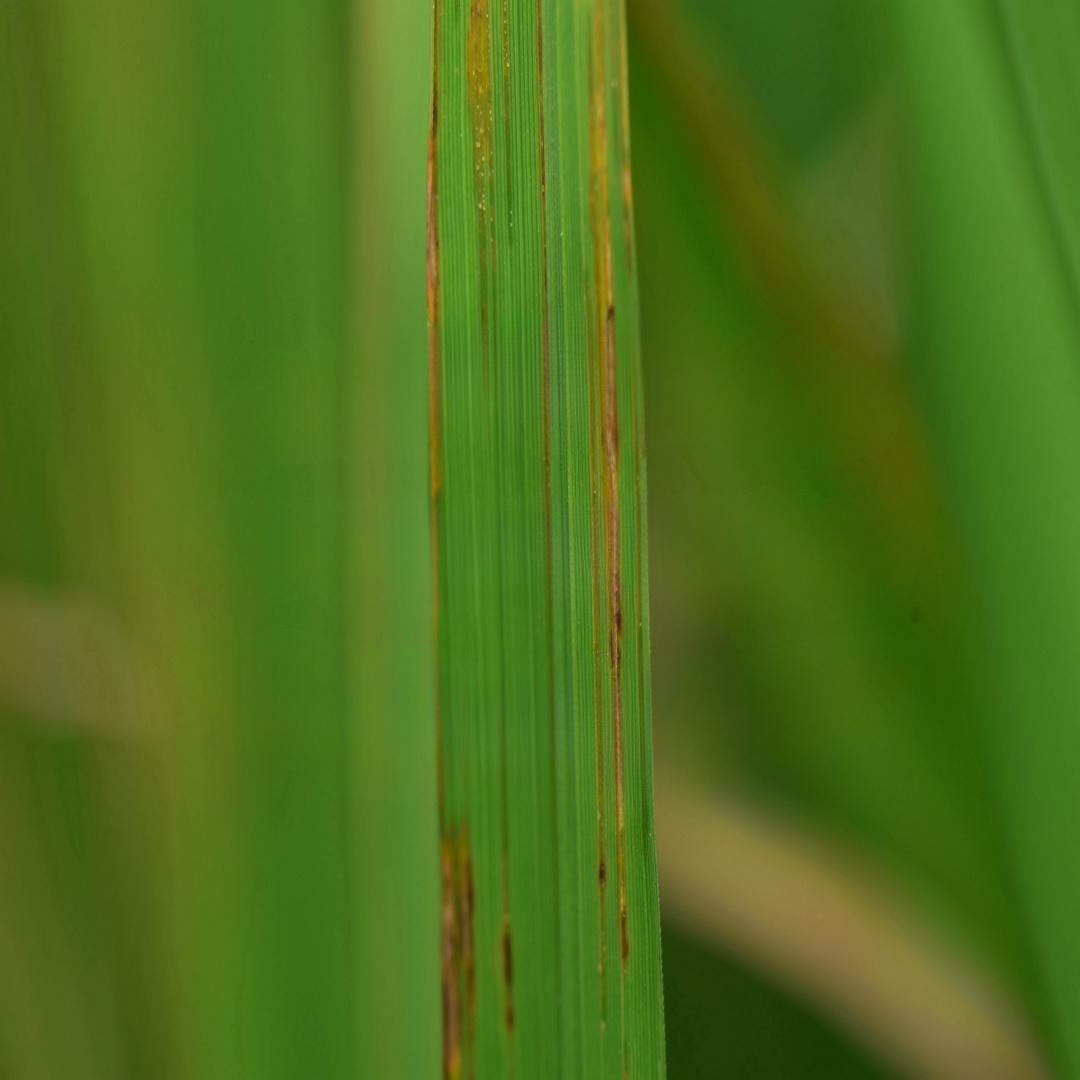BLS: (427, 0, 476, 1079), (588, 0, 630, 988), (585, 268, 608, 1027), (536, 0, 554, 620), (468, 0, 497, 361), (633, 389, 648, 894), (611, 0, 632, 277), (500, 783, 517, 1079), (503, 0, 510, 138)
